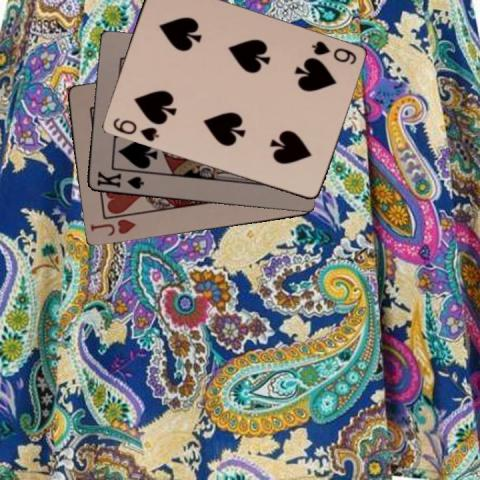6s: (109, 115, 160, 143), (308, 38, 357, 66)
Jh: (86, 216, 136, 238)
Ks: (93, 168, 145, 191)
